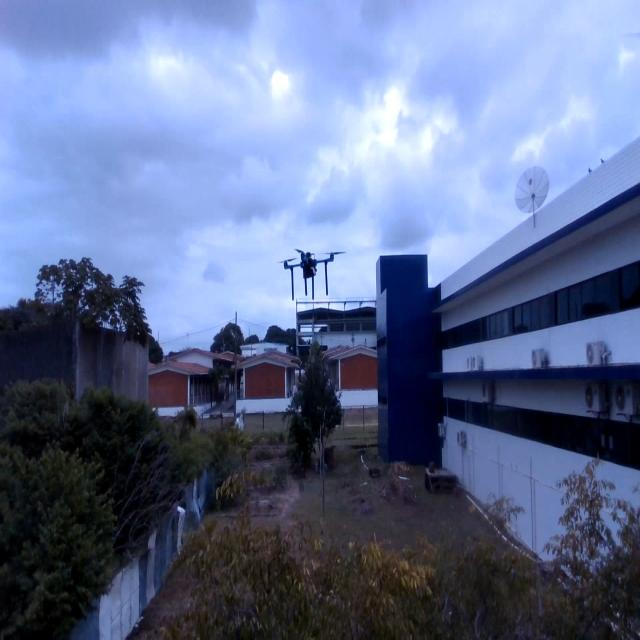-uav-: (269, 234, 352, 308)
